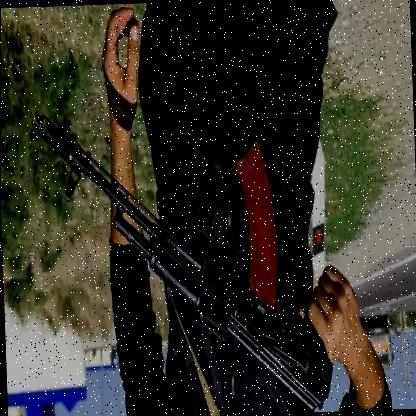rifle: (32, 99, 345, 416)
